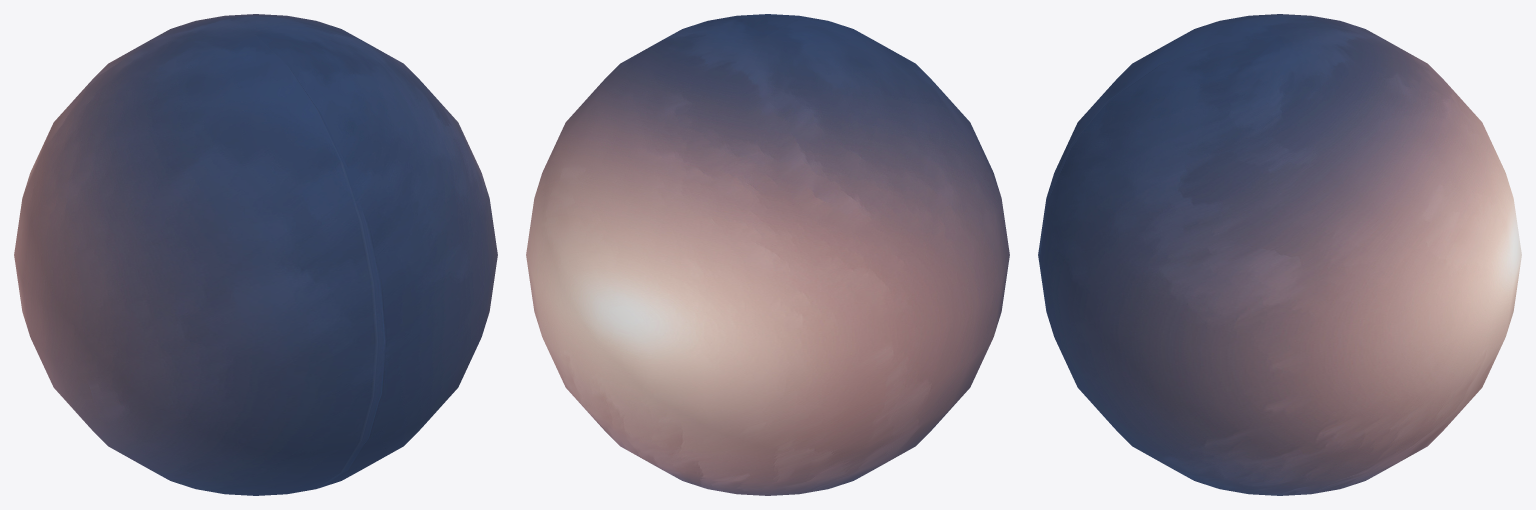
File: ShipInClouds.glb
3 views of the same model, side by side, from view 1: azimuth 30°, elevation 25°; view 2: azimuth 150°, elevation 25°; view 3: azimuth 270°, elevation 25° (orthographic).
Visible parts, largest first — view 1: Sky; view 2: Sky; view 3: Sky.
Part boxes in pixels (x1,y1,x2,y2): Sky: [14, 14, 497, 495]; Sky: [526, 14, 1009, 495]; Sky: [1038, 14, 1521, 495].
Size of the model in its own units: 12.02 by 12.02 by 12.02.
Materials: 6 (6 with a texture image).
